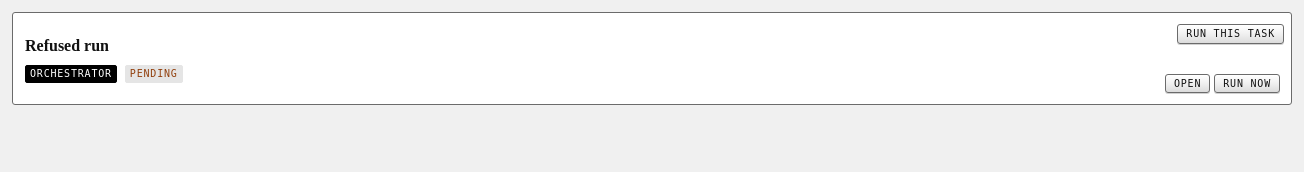
Scenario: task-card quick actions (V7-T16) › a refused POST renders ApiError.display inline (code + how_to_fix) and re-arms the chip
Step 1. Click the button "Run now" → (1247, 83), box [1214,74,1280,93]
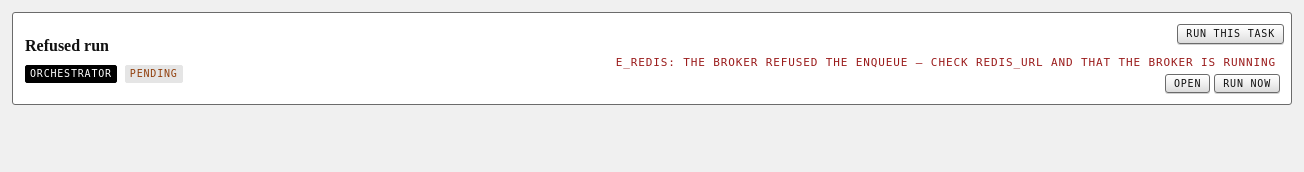
Now the message shows "E_REDIS", box [616,56,1276,69]
Now the message shows "check REDIS_URL and that the broker is running", box [616,56,1276,69]
